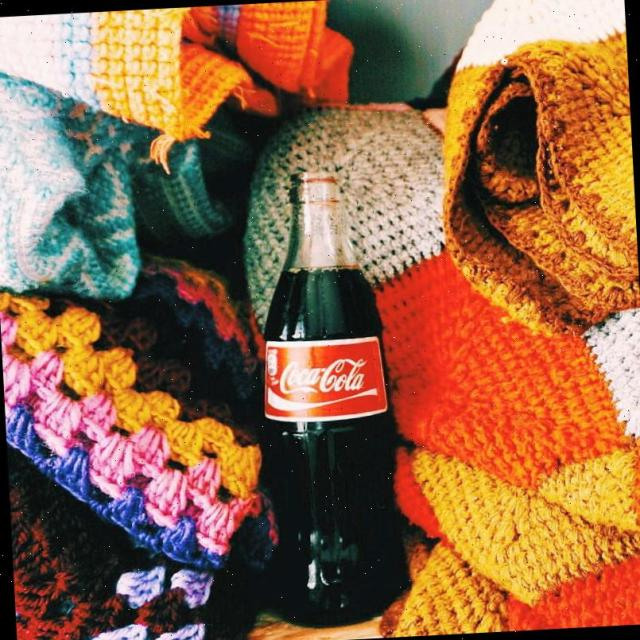coca-cola: (246, 168, 415, 631)
